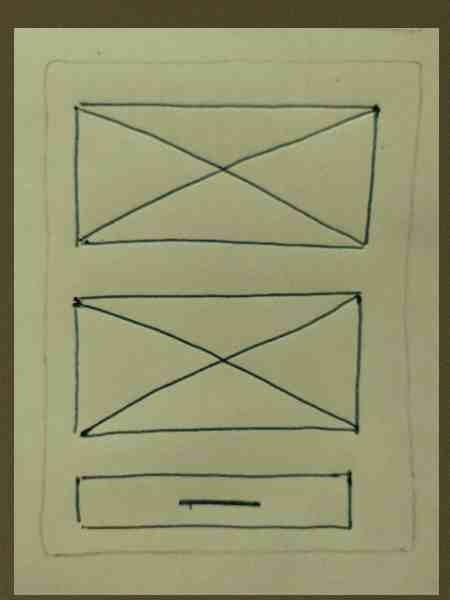button: (67, 466, 357, 540)
image: (66, 94, 383, 265), (59, 283, 371, 448)
